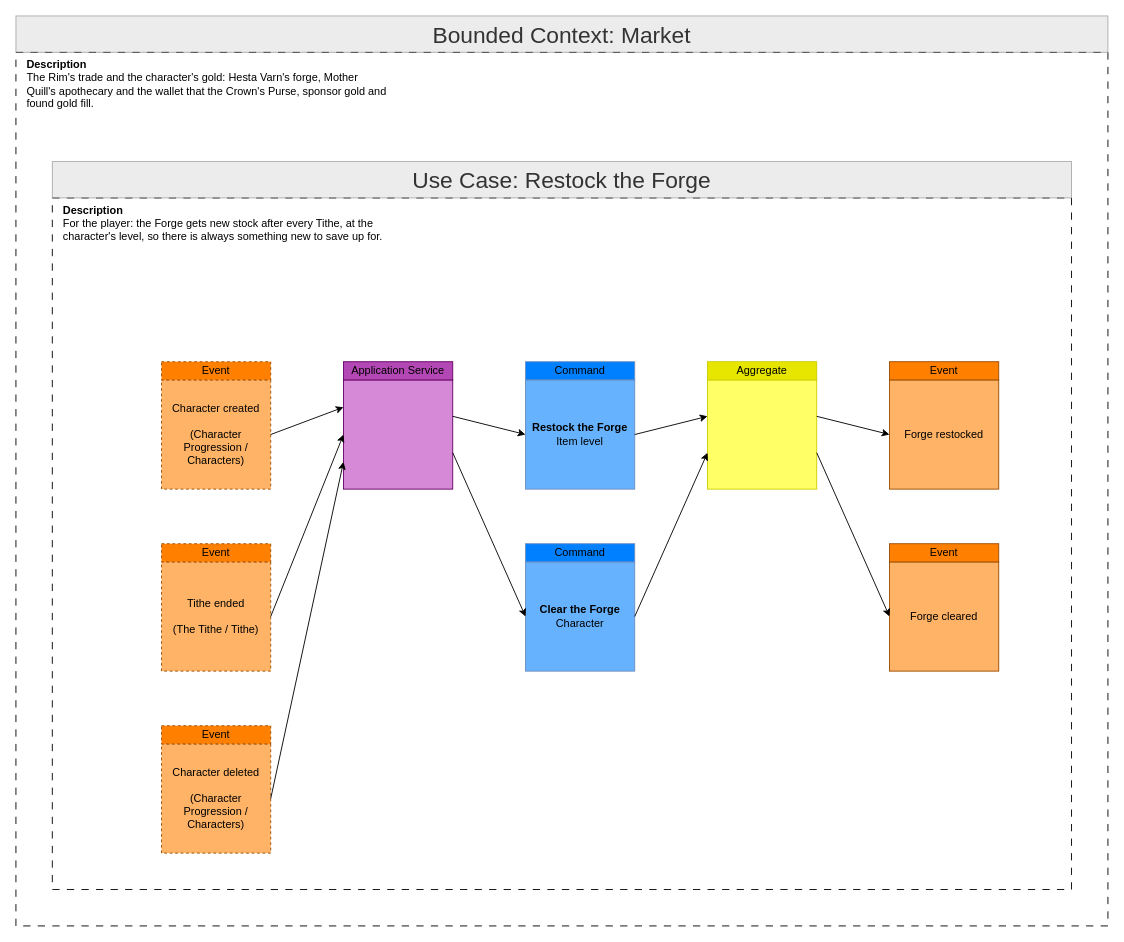
Image size: 1124x942. Some labels were removed from this diagram. Each missing label, with the centre of its shape:
"Forge keeper" belongs at [398,434].
"Forge Stock (many) · Item · Price" belongs at [762,434].
